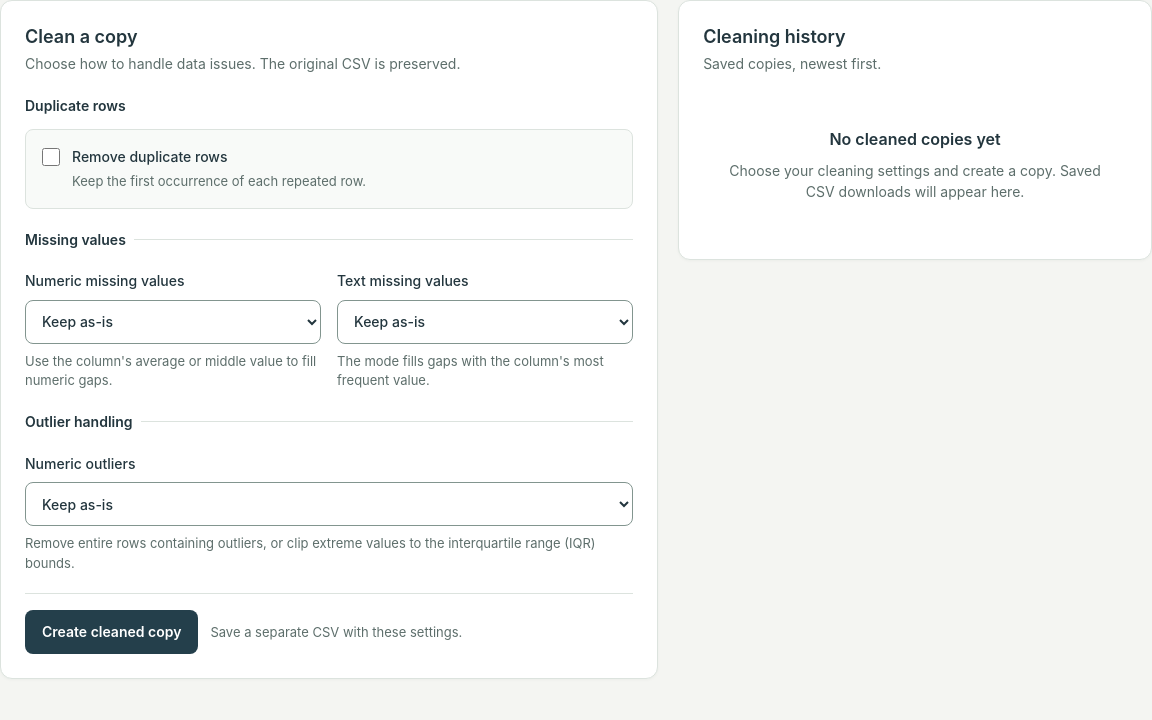
Scenario: CleaningPanel › preserves the mean / keep / remove cleaning request and download
Expected: the heading "No cleaned copies yet" is shown, [829,129,1001,149]
Select "Fill with mean" in the dropdown labelled "Numeric missing values": (173, 322) [25,300,321,344]
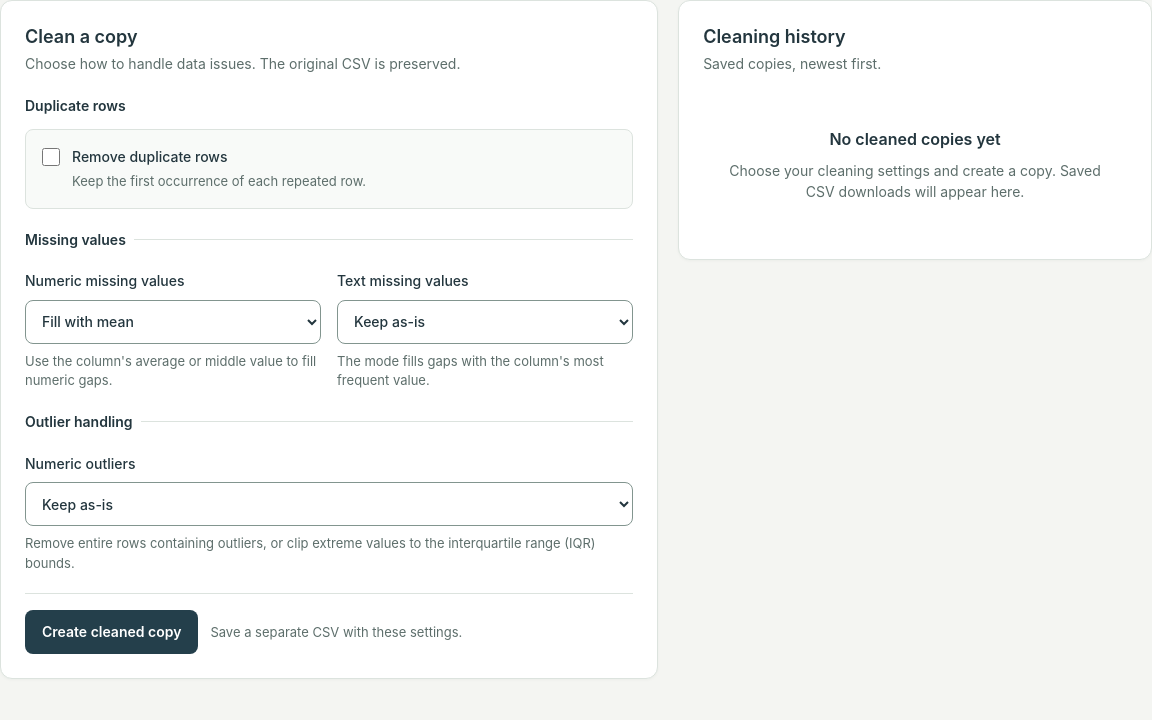
Select "Keep as-is" in the dropdown labelled "Text missing values": (485, 322) [337,300,633,344]
Select "Remove rows" in the dropdown labelled "Numeric outliers": (329, 504) [25,482,633,526]
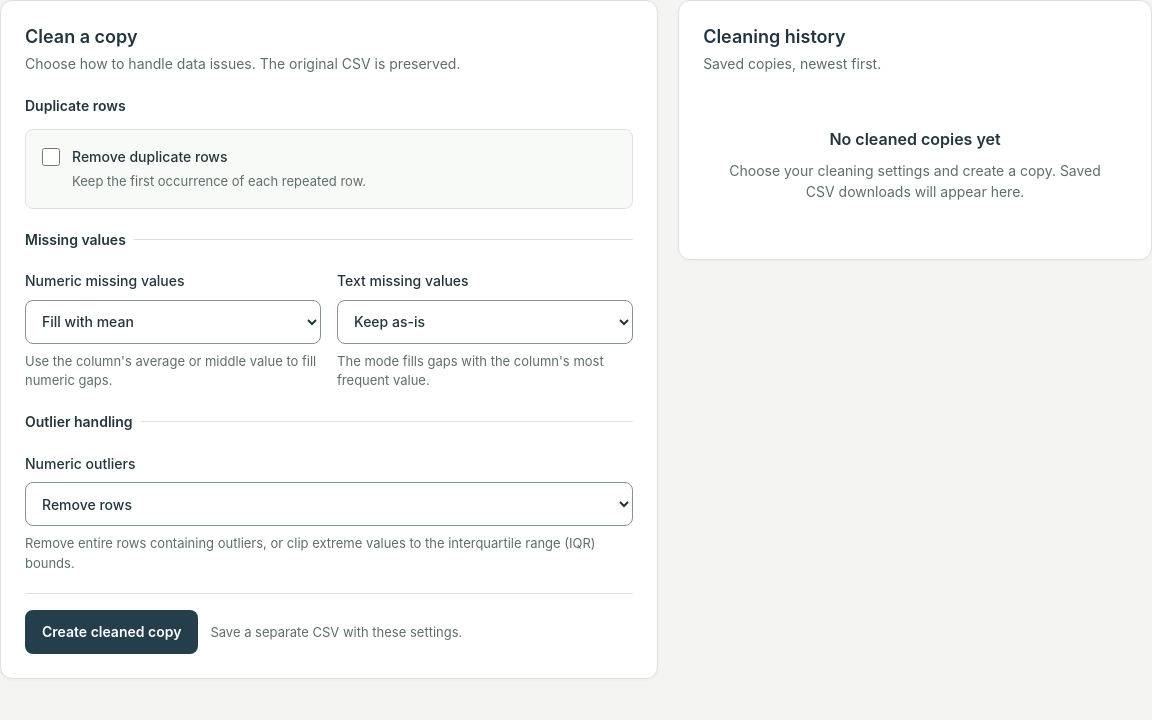
Click the button "Create cleaned copy": (112, 632) [25,610,198,654]
(page scrolled)
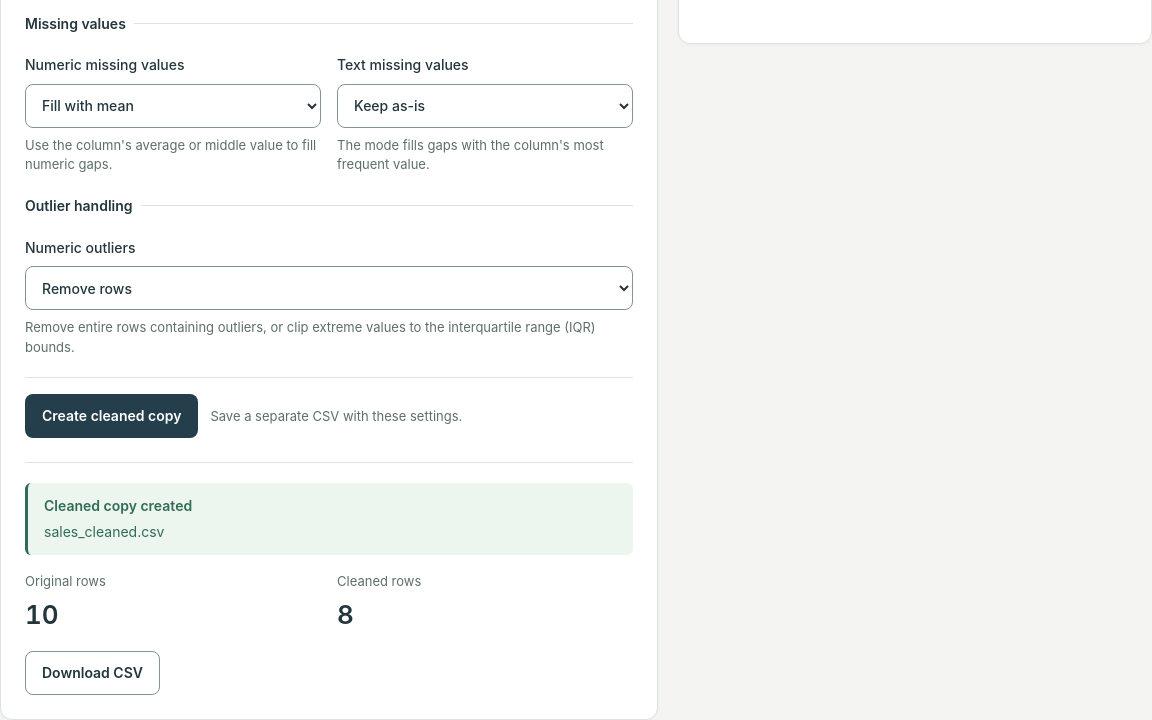
Expected: the text "Cleaned copy created" is shown, [44,497,192,514]
